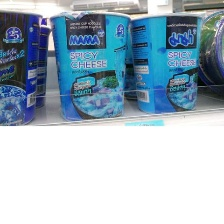paper_cup: (44, 6, 137, 124), (124, 9, 209, 117), (0, 4, 48, 125)
